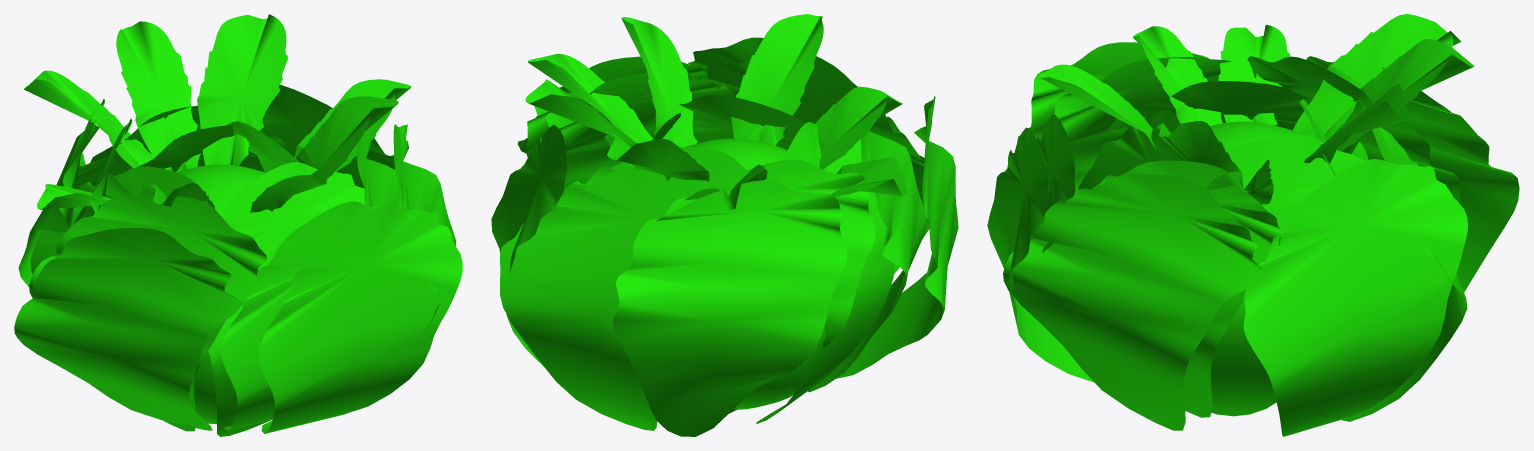
File: Laitue_Croissance_3.fbx
3 renders of one model, left to right at view 1: azimuth 30°, elevation 25°; view 2: azimuth 150°, elevation 25°; view 3: azimuth 270°, elevation 25°, orthographic. The views are drawn at different scales.
Parts seen in each view (by area): view 1: Plane.013, Plane.008, Feuille.004, Plane.007, Plane.005, Plane, Feuille, Feuille.005, Plane.011, Feuille.006, Sphere, Plane.002 (+11 smaller); view 2: Plane.010, Plane.009, Plane.008, Plane.002, Feuille.001, Plane.006, Plane.005, Plane.011, Plane.004, Feuille.005, Plane.007, Feuille.007 (+10 smaller); view 3: Plane.011, Plane.012, Plane.003, Plane.010, Plane.013, Plane.004, Feuille.006, Plane.005, Plane.002, Plane.006, Feuille, Feuille.007 (+11 smaller).
Boxes of the visible parts, bbox=[...] form: Plane.013: bbox=[258, 204, 462, 433]; Plane.008: bbox=[14, 227, 243, 430]; Feuille.004: bbox=[197, 14, 287, 165]; Plane.007: bbox=[221, 201, 378, 430]; Plane.005: bbox=[29, 195, 267, 431]; Plane: bbox=[208, 162, 365, 436]; Feuille: bbox=[116, 21, 201, 172]; Feuille.005: bbox=[296, 96, 398, 178]; Plane.011: bbox=[261, 84, 394, 188]; Feuille.006: bbox=[24, 70, 163, 168]; Sphere: bbox=[177, 164, 265, 424]; Plane.002: bbox=[30, 166, 208, 274]; Plane.010: bbox=[612, 180, 846, 436]; Plane.009: bbox=[500, 168, 749, 430]; Plane.008: bbox=[836, 96, 958, 378]; Plane.002: bbox=[756, 122, 893, 424]; Feuille.001: bbox=[731, 14, 823, 145]; Plane.006: bbox=[666, 159, 875, 413]; Plane.005: bbox=[808, 111, 926, 392]; Plane.011: bbox=[491, 125, 566, 366]; Plane.004: bbox=[530, 73, 735, 188]; Feuille.005: bbox=[621, 17, 697, 147]; Plane.007: bbox=[701, 58, 929, 273]; Feuille.007: bbox=[815, 86, 902, 169]; Plane.011: bbox=[1243, 159, 1467, 436]; Plane.012: bbox=[1003, 174, 1268, 430]; Plane.003: bbox=[1210, 134, 1365, 416]; Plane.010: bbox=[1306, 56, 1519, 292]; Plane.013: bbox=[987, 127, 1094, 382]; Plane.004: bbox=[1085, 160, 1283, 417]; Feuille.006: bbox=[1292, 14, 1461, 140]; Plane.005: bbox=[1054, 57, 1230, 194]; Plane.002: bbox=[1108, 81, 1313, 136]; Plane.006: bbox=[1247, 56, 1460, 201]; Feuille: bbox=[1330, 39, 1474, 154]; Feuille.007: bbox=[1133, 26, 1222, 125].
Size of the model in its own units: 34.67 by 25.73 by 34.59.
